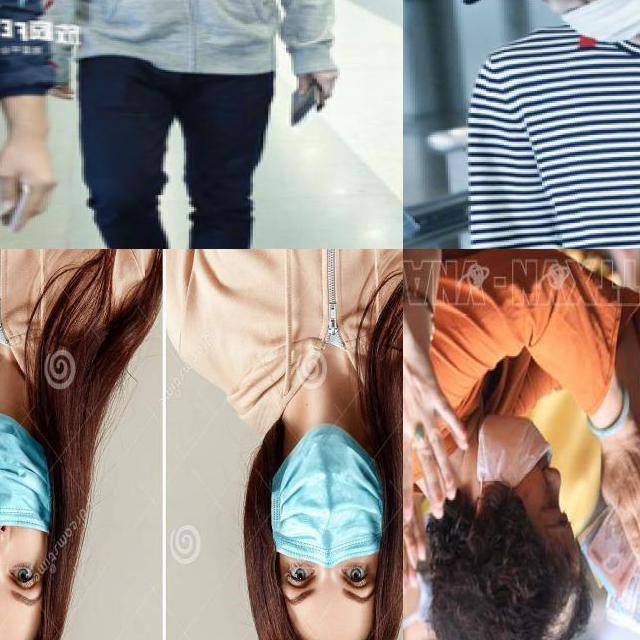hairnet: (479, 415, 561, 504), (0, 413, 43, 557)
